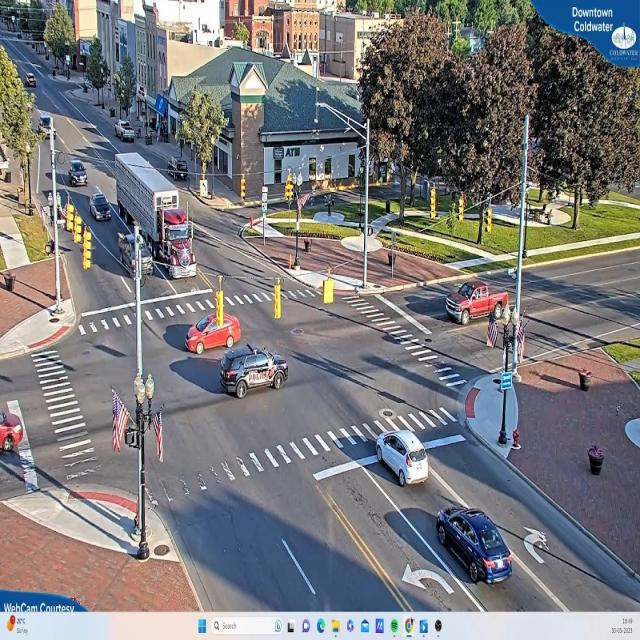car: (436, 508, 513, 586), (218, 344, 287, 398), (374, 429, 430, 487), (444, 283, 511, 324), (186, 315, 243, 354), (1, 409, 25, 452), (91, 192, 112, 220), (117, 122, 137, 144), (68, 165, 88, 185)
